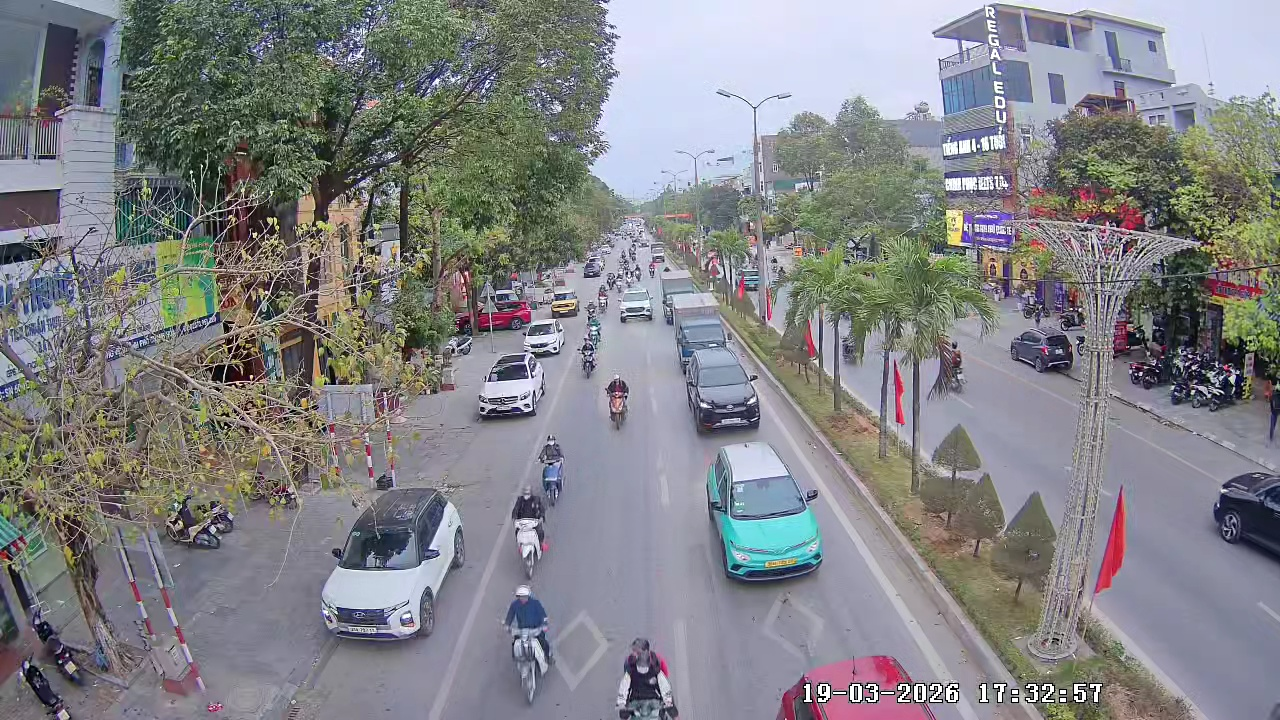car: (320, 486, 467, 642), (705, 442, 825, 581), (1211, 463, 1279, 577), (683, 349, 763, 434), (476, 353, 547, 419), (1009, 328, 1077, 374), (523, 317, 565, 355), (619, 290, 654, 323), (492, 303, 529, 333), (550, 282, 580, 318)
motorbike: (500, 583, 560, 705), (615, 633, 680, 719), (511, 485, 548, 580), (536, 432, 567, 509), (604, 372, 632, 431), (577, 337, 597, 379), (584, 312, 604, 345), (661, 289, 678, 324)
truck: (675, 316, 732, 371)
